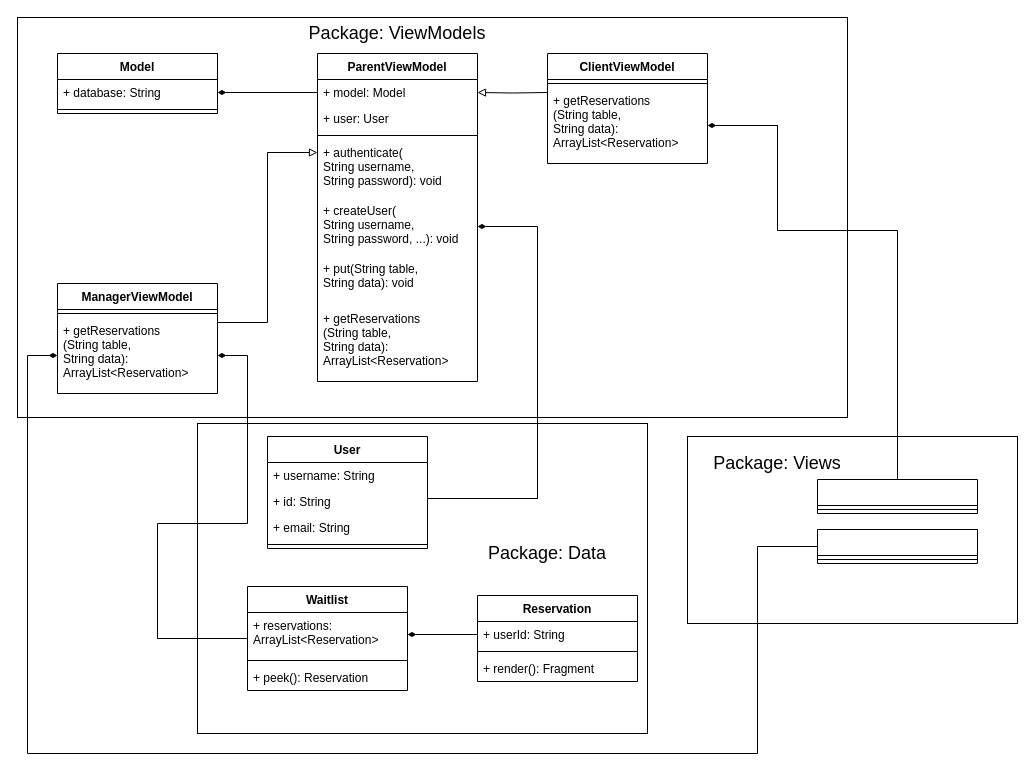
Some shapes in this 1035 by 779 pixel diagram are drawn without their labels. Each missing label, with the centre of its shape:
"ClientView" belongs at (x=897, y=496).
"ManagerView" belongs at (x=897, y=546).
